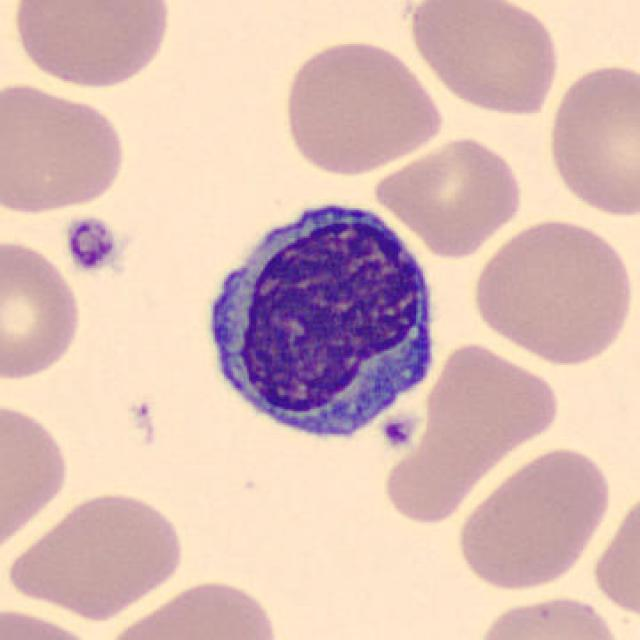Lymphocyte: (190, 185, 450, 453)
Platelets: (62, 213, 123, 277), (377, 411, 419, 453)
RBC: (468, 213, 636, 367), (4, 486, 190, 620), (452, 443, 614, 594), (277, 35, 448, 178), (372, 132, 526, 259), (404, 0, 564, 118), (0, 77, 130, 217), (416, 338, 562, 449), (542, 58, 638, 220), (7, 0, 176, 92), (0, 234, 85, 384), (98, 575, 282, 640), (0, 395, 73, 557), (469, 590, 627, 640), (588, 485, 640, 624), (0, 603, 108, 640)
